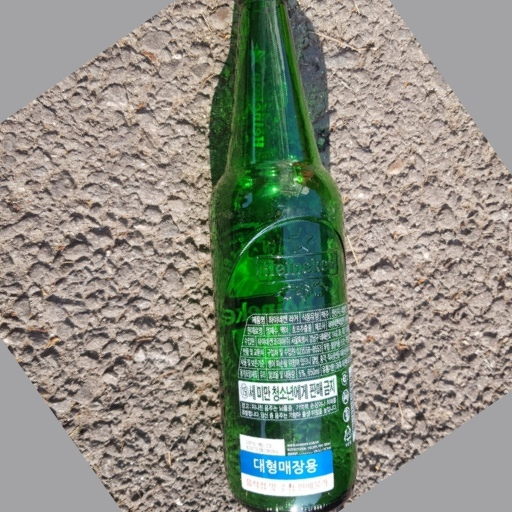Glass_1: (207, 1, 357, 512)
